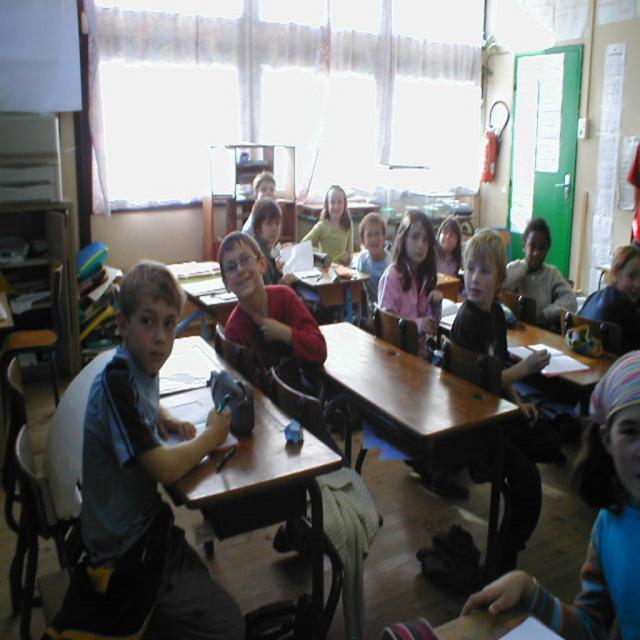chair: (270, 356, 351, 466), (374, 308, 420, 357)
desk: (125, 358, 368, 640)
person: (46, 260, 244, 639), (454, 350, 638, 638), (450, 228, 560, 448), (218, 229, 329, 387), (502, 217, 577, 331), (376, 210, 442, 339), (579, 245, 640, 353), (303, 184, 353, 266), (354, 212, 394, 310), (246, 200, 288, 284), (436, 218, 464, 278)
